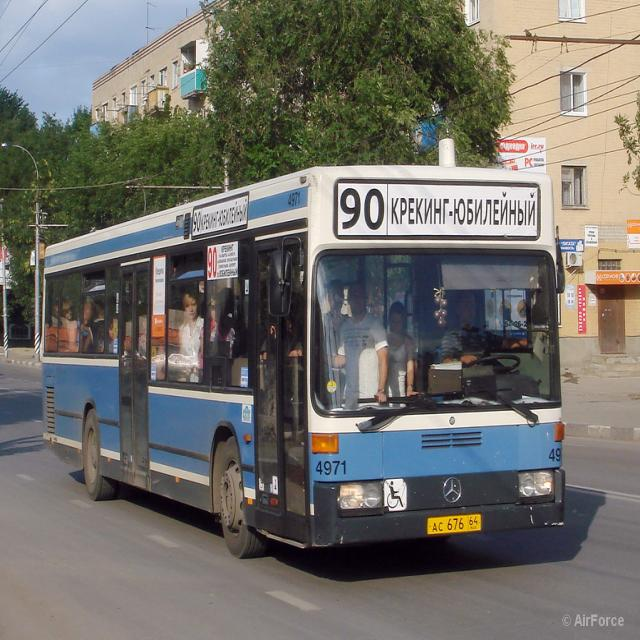number-of-bus: (339, 187, 387, 238), (208, 249, 219, 281), (193, 210, 202, 235)
